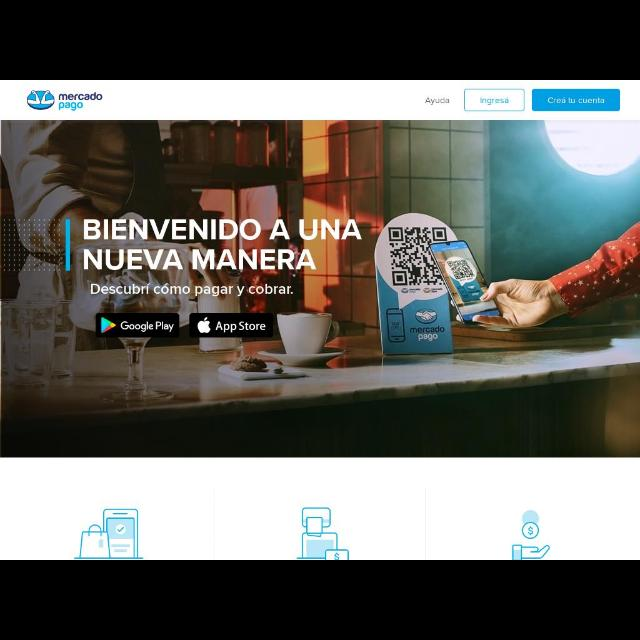backgroundimage: (2, 123, 640, 457)
image: (62, 504, 152, 558), (286, 502, 358, 558), (500, 504, 556, 556), (26, 86, 106, 118), (191, 312, 271, 338), (95, 314, 178, 338)
text: (82, 216, 364, 272), (91, 282, 295, 298), (422, 95, 456, 108)
textbutton: (532, 90, 620, 112), (462, 90, 526, 112)
